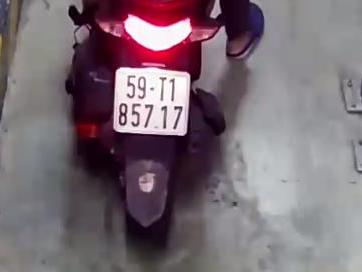num_plate: (113, 64, 190, 137)
